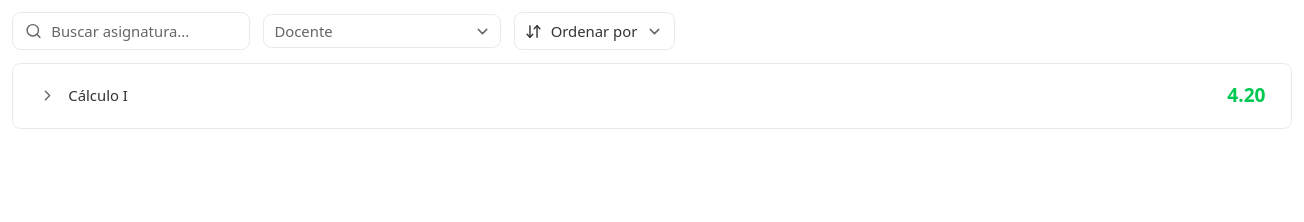
it: DepartmentSubjectsTable › expands a row to show its groups
Expected: the text "Cálculo I" is shown, left=68, top=85, right=128, bottom=107
Click the button "Cálculo I 4.20" at (98, 95), box left=13, top=64, right=1291, bottom=128
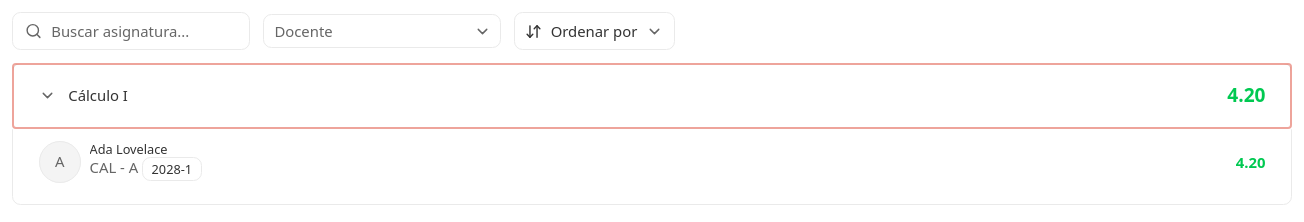
Result: the text "Ada Lovelace" is shown at left=90, top=140, right=168, bottom=158
Result: the text "2028-1" is shown at left=142, top=158, right=202, bottom=181
